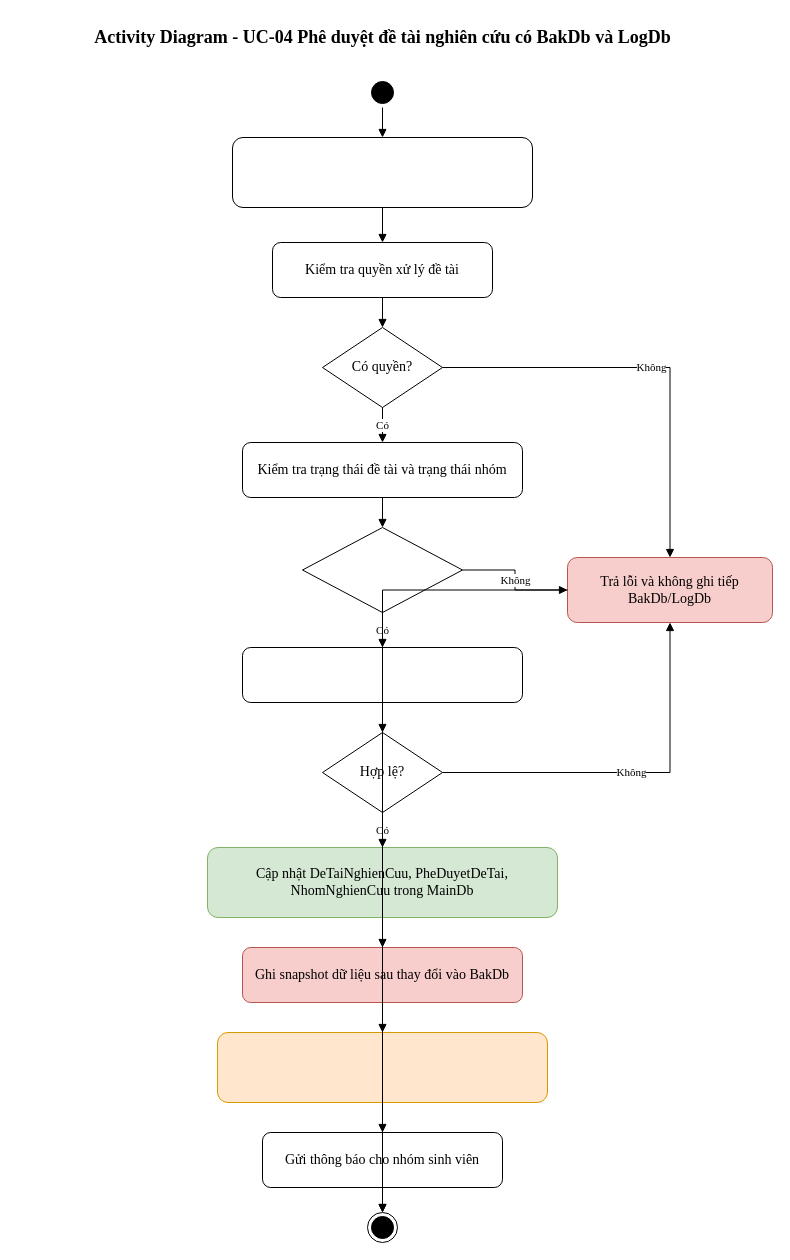
This 790x1260 diagram has some shape labels left out. The shapes that lost their labels are listed below. From the top down, each one's box as (x1, y1, x2, y2) in pixels, then its label:
(232, 136, 532, 208): Giảng viên/cán bộ chọn quyết định Phê duyệt / Chỉnh sửa / Từ chối / Chốt
(302, 526, 462, 612): Transition hợp lệ?
(242, 646, 522, 702): Kiểm tra nhận xét/lý do bắt buộc
(216, 1032, 548, 1102): Ghi change log vào LogDb DUYET / YEU_CAU_CHINH_SUA / TU_CHOI / CHOT
